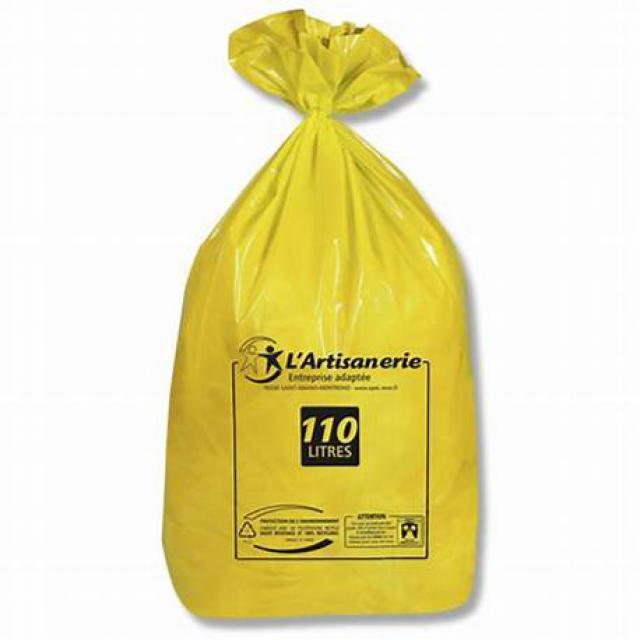waste: (159, 17, 475, 622)
